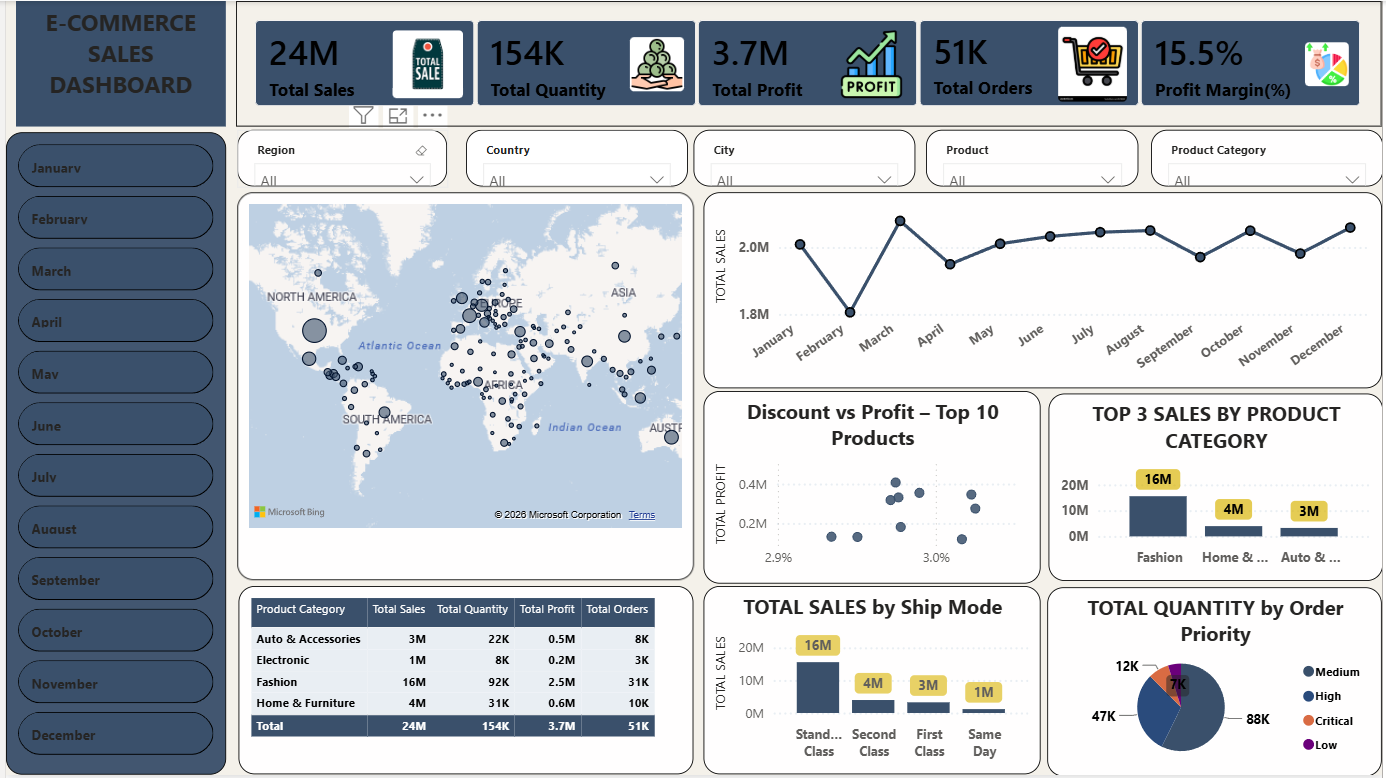

The dashboard page shown, as its layout file describes it:
{"tool":"powerbi","page":{"name":"Page 1","canvas":[1280,720],"ordinal":0},"visuals":[{"type":"textbox","box":[9.6,0,194.9,116.6],"z":0},{"type":"advancedSlicerVisual","fields":{"Values":["E-COMMERCE DATA.Order Date.Variation.Date Hierarchy.Month"]},"box":[0,122.1,204.7,597.7],"z":1000},{"type":"slicer","fields":{"Values":["E-COMMERCE DATA.Region"]},"box":[215.6,120,195.5,53],"z":2000},{"type":"slicer","fields":{"Values":["E-COMMERCE DATA.Country"]},"box":[427.5,120.1,206.2,52.9],"z":3000},{"type":"slicer","fields":{"Values":["E-COMMERCE DATA.City"]},"box":[639.5,120.1,206.1,53],"z":4000},{"type":"slicer","fields":{"Values":["E-COMMERCE DATA.Product"]},"box":[856.2,120.1,197.8,52.9],"z":5000},{"type":"columnChart","fields":{"Category":["E-COMMERCE DATA.Ship Mode"],"Y":["E-COMMERCE DATA.TOTAL SALES"]},"box":[649.2,544.7,313.5,175.5],"z":6000},{"type":"pieChart","fields":{"Category":["E-COMMERCE DATA.Order Priority"],"Y":["E-COMMERCE DATA.TOTAL QUANTITY"]},"box":[968.8,544.8,311.5,175.6],"z":7000},{"type":"lineChart","fields":{"Category":["E-COMMERCE DATA.Order Date.Variation.Date Hierarchy.Month","E-COMMERCE DATA.Order Date.Variation.Date Hierarchy.Day"],"Y":["E-COMMERCE DATA.TOTAL SALES"]},"box":[649.2,178.3,631.1,182.5],"z":8000},{"type":"tableEx","fields":{"Values":["E-COMMERCE DATA.Product Category","E-COMMERCE DATA.TOTAL SALES","E-COMMERCE DATA.TOTAL QUANTITY","E-COMMERCE DATA.TOTAL PROFIT","E-COMMERCE DATA.TOTAL ORDERS"]},"box":[215.9,544.7,423.5,175.5],"z":9000},{"type":"clusteredColumnChart","title":"TOP 3 SALES BY PRODUCT CATEGORY ","fields":{"Category":["E-COMMERCE DATA.Product Category"],"Y":["E-COMMERCE DATA.TOTAL SALES"]},"box":[969.3,365.1,310.9,174.3],"z":10000},{"type":"map","fields":{"Category":["E-COMMERCE DATA.Country"],"Size":["CountNonNull(E-COMMERCE DATA.City)"]},"box":[214.5,178.3,424.9,360.8],"z":12000},{"type":"slicer","fields":{"Values":["E-COMMERCE DATA.Product Category"]},"box":[1064.7,120.1,215.9,52.9],"z":13000},{"type":"scatterChart","title":"Discount vs Profit – Top 10 Products","fields":{"Category":["E-COMMERCE DATA.Product"],"X":["E-COMMERCE DATA.AVERAGE DISCOUNT"],"Y":["E-COMMERCE DATA.TOTAL PROFIT"]},"box":[649,362.8,313.3,179],"z":14000},{"type":"cardVisual","fields":{"Data":["E-COMMERCE DATA.TOTAL SALES","E-COMMERCE DATA.TOTAL QUANTITY","E-COMMERCE DATA.TOTAL PROFIT","E-COMMERCE DATA.TOTAL ORDERS","E-COMMERCE DATA.PROFIT MARGIN %"]},"box":[214.4,0,1065.9,116.6],"z":15000}]}

Visuals, with their boxes in screenshot pixels (x1, y1, x2, y2), scaled from the page's 1280x720 canvas onto the 1386x778 screenshot:
textbox: {"left": 10, "top": 0, "right": 221, "bottom": 126}
advancedSlicerVisual - E-COMMERCE DATA.Order Date.Variation.Date Hierarchy.Month: {"left": 0, "top": 132, "right": 222, "bottom": 777}
slicer - E-COMMERCE DATA.Region: {"left": 233, "top": 130, "right": 445, "bottom": 187}
slicer - E-COMMERCE DATA.Country: {"left": 463, "top": 130, "right": 686, "bottom": 187}
slicer - E-COMMERCE DATA.City: {"left": 692, "top": 130, "right": 916, "bottom": 187}
slicer - E-COMMERCE DATA.Product: {"left": 927, "top": 130, "right": 1141, "bottom": 187}
columnChart - E-COMMERCE DATA.Ship Mode x E-COMMERCE DATA.TOTAL SALES: {"left": 703, "top": 589, "right": 1042, "bottom": 777}
pieChart - E-COMMERCE DATA.Order Priority x E-COMMERCE DATA.TOTAL QUANTITY: {"left": 1049, "top": 589, "right": 1385, "bottom": 777}
lineChart - E-COMMERCE DATA.Order Date.Variation.Date Hierarchy.Month x E-COMMERCE DATA.Order Date.Variation.Date Hierarchy.Day: {"left": 703, "top": 193, "right": 1385, "bottom": 390}
tableEx - E-COMMERCE DATA.Product Category x E-COMMERCE DATA.TOTAL SALES: {"left": 234, "top": 589, "right": 692, "bottom": 777}
"TOP 3 SALES BY PRODUCT CATEGORY " clusteredColumnChart: {"left": 1050, "top": 395, "right": 1385, "bottom": 583}
map - E-COMMERCE DATA.Country x CountNonNull(E-COMMERCE DATA.City): {"left": 232, "top": 193, "right": 692, "bottom": 583}
slicer - E-COMMERCE DATA.Product Category: {"left": 1153, "top": 130, "right": 1385, "bottom": 187}
"Discount vs Profit – Top 10 Products" scatterChart: {"left": 703, "top": 392, "right": 1042, "bottom": 585}
cardVisual - E-COMMERCE DATA.TOTAL SALES x E-COMMERCE DATA.TOTAL QUANTITY: {"left": 232, "top": 0, "right": 1385, "bottom": 126}
